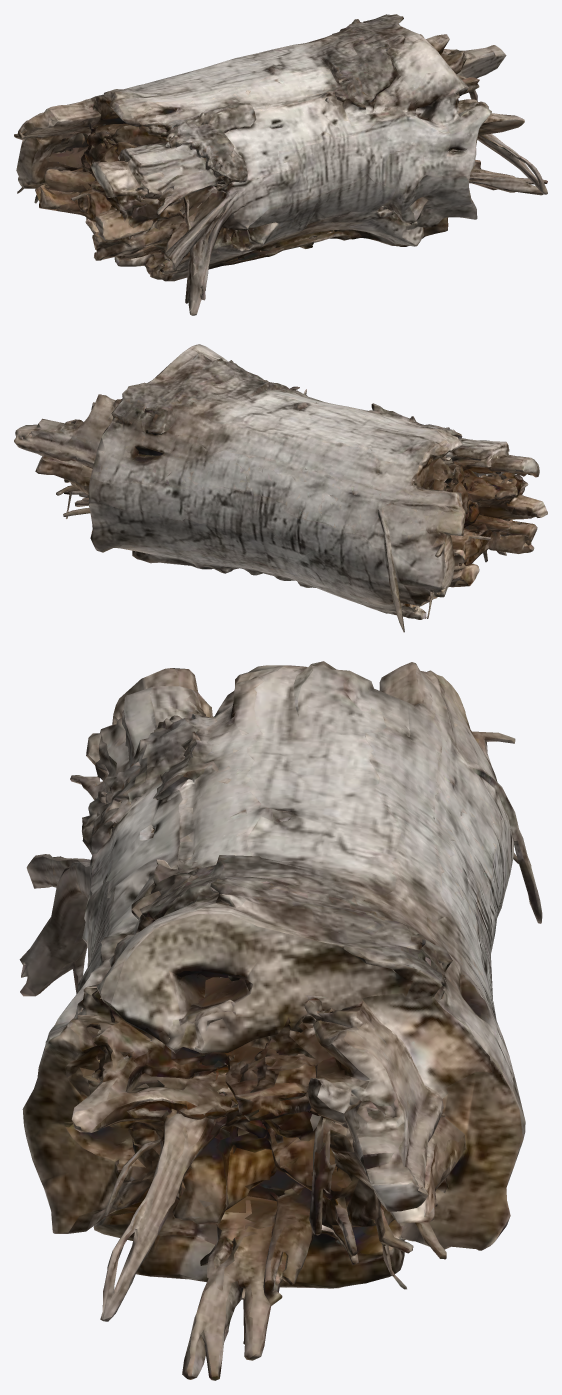
File: decayed-wood-v11-lod.glb
3 renders of one model, top to bottom at view 1: azimuth 30°, elevation 25°; view 2: azimuth 150°, elevation 25°; view 3: azimuth 270°, elevation 25°, orthographic. The views are drawn at different scales.
Parts seen in each view (by area): view 1: geometry_0; view 2: geometry_0; view 3: geometry_0.
Part boxes in pixels (box(x1,y1,x2,y2)): geometry_0: box(14, 14, 547, 315); geometry_0: box(14, 344, 547, 632); geometry_0: box(19, 661, 542, 1380).
Size of the model in its own units: 0.6492 by 0.2556 by 0.3198.
1 material, 1 textured.
